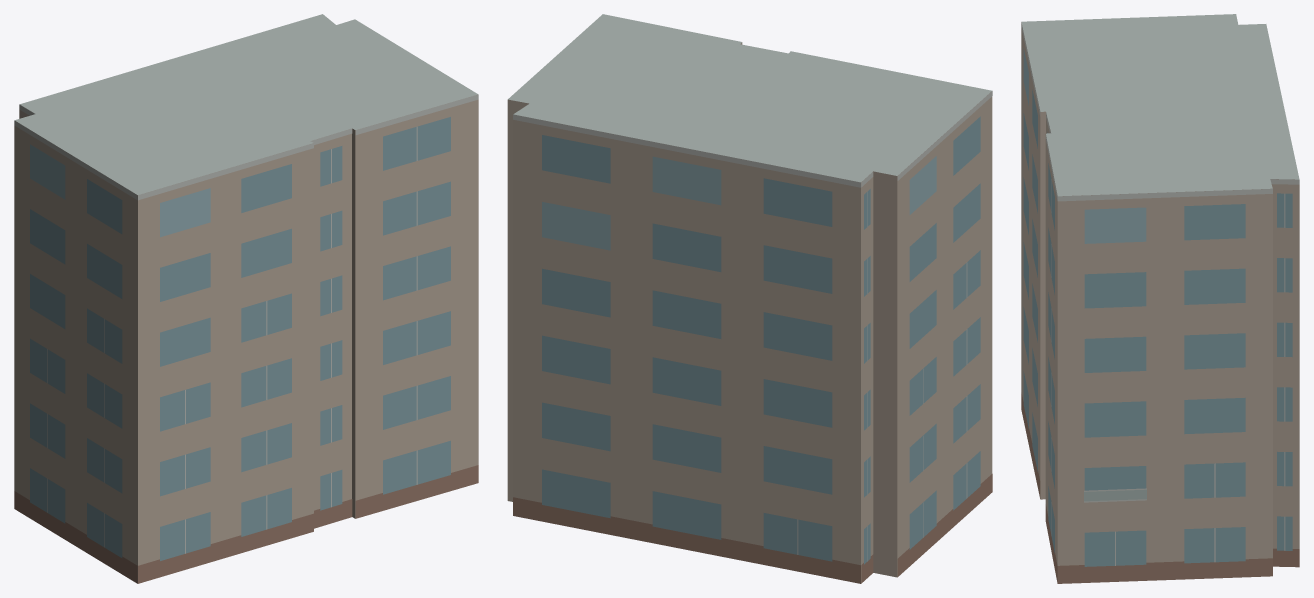
File: survey-upis-32971958.glb
3 views of the same model, side by side, from view 1: azimuth 30°, elevation 25°; view 2: azimuth 150°, elevation 25°; view 3: azimuth 270°, elevation 25° (orthographic). The views are drawn at different scales.
Parts seen in each view (by area): view 1: survey-upis-32971958.tmp; view 2: survey-upis-32971958.tmp; view 3: survey-upis-32971958.tmp.
Boxes of the visible parts, x1,y1,x2,y2 form: survey-upis-32971958.tmp: (14,14,478,583); survey-upis-32971958.tmp: (507,14,992,583); survey-upis-32971958.tmp: (1021,14,1299,583).
Size of the model in its own units: 18.47 by 18.3 by 11.91.
